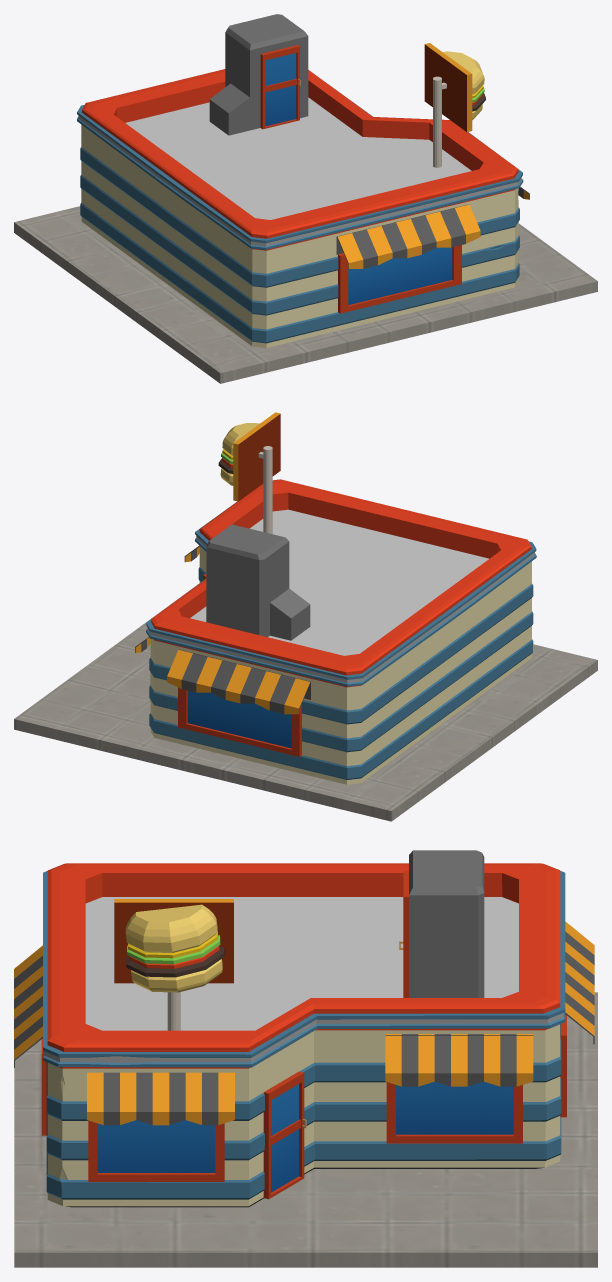
The model's file is Fast_Food_01.fbx.
3 views of the same model, one above another, from view 1: azimuth 30°, elevation 25°; view 2: azimuth 150°, elevation 25°; view 3: azimuth 270°, elevation 25° (orthographic). The views are drawn at different scales.
Visible parts, largest first — view 1: Fast_Food_01; view 2: Fast_Food_01; view 3: Fast_Food_01.
Boxes of the visible parts, x1,y1,x2,y2 form: Fast_Food_01: (14, 14, 597, 383); Fast_Food_01: (14, 412, 597, 821); Fast_Food_01: (14, 850, 597, 1267).
Size of the model in its own units: 1900 by 1030 by 1801.
